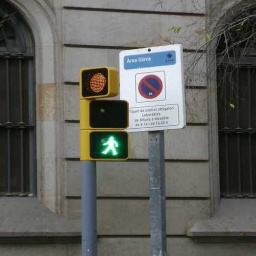traffic light: (87, 100, 130, 161)
